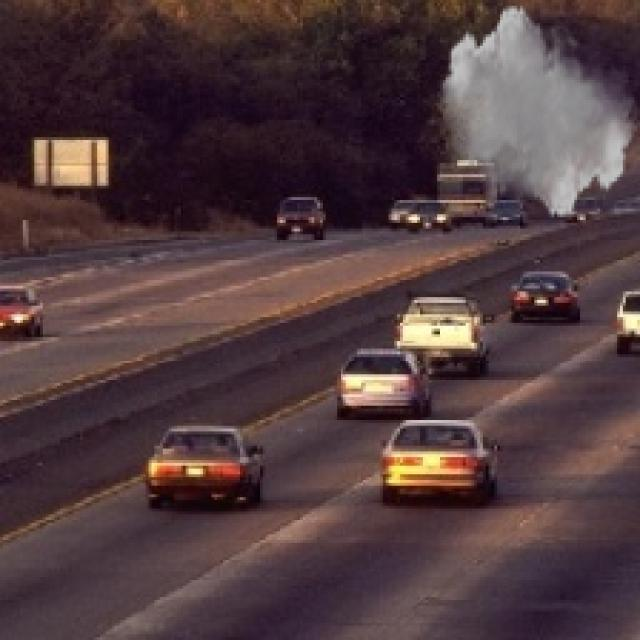smoke: (437, 3, 637, 220)
